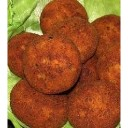cutlet: (24, 36, 84, 93), (14, 80, 69, 128), (68, 81, 120, 128), (42, 1, 89, 38), (8, 32, 43, 81), (90, 15, 121, 58)
